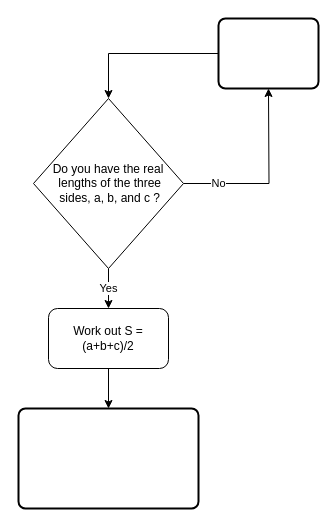
This 336x526 diagram has some shape labels left out. Here are the shapes that lost their labels. From the top down, the centre of each, then its label:
point (268, 53): Work out the three real number values of a, b, and c
point (108, 458): Area of triangle = sqrt(S(S-a)(S-b)(S-c))
